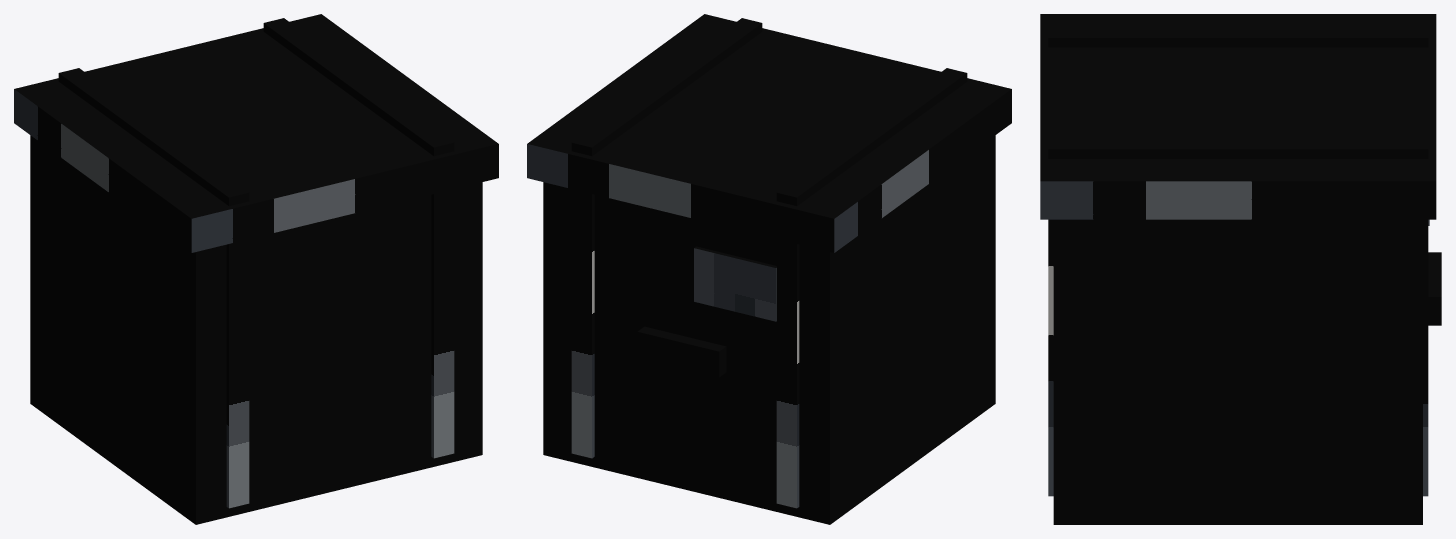
The model's file is lab_storage_crate.obj.
3 renders of one model, left to right at view 1: azimuth 30°, elevation 25°; view 2: azimuth 150°, elevation 25°; view 3: azimuth 270°, elevation 25°, orthographic. The views are drawn at different scales.
Bounding box in the file's own units: 0.8635 × 0.8635 × 0.875.
